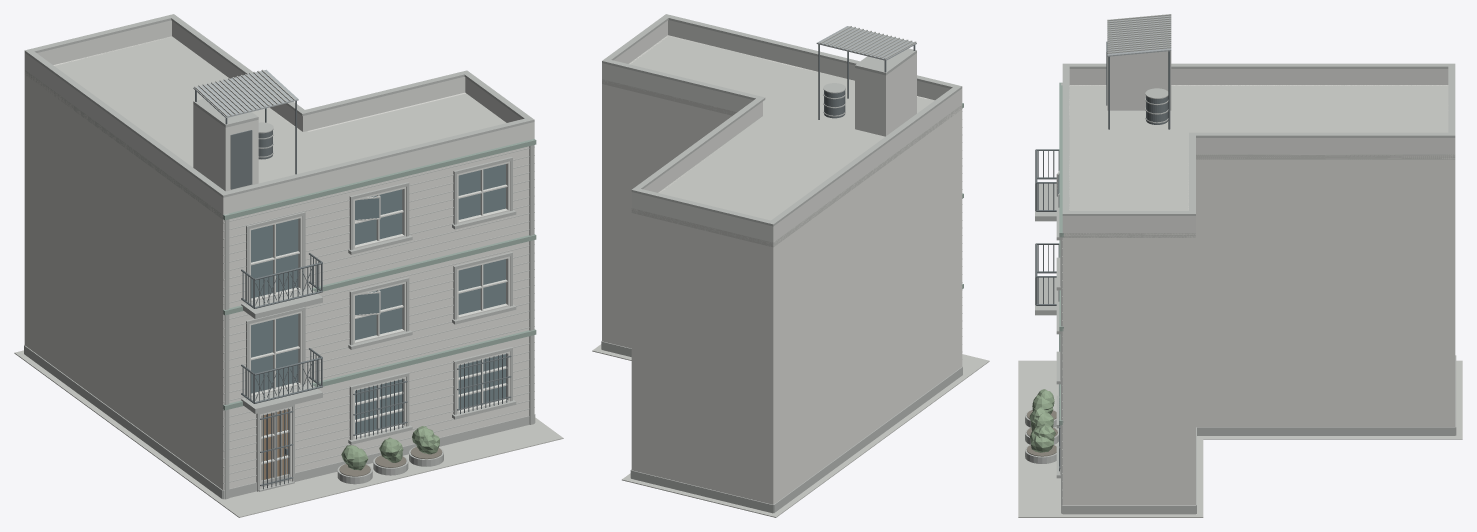
The model's file is 04_concave.glb.
3 renders of one model, left to right at view 1: azimuth 30°, elevation 25°; view 2: azimuth 150°, elevation 25°; view 3: azimuth 270°, elevation 25°, orthographic. The views are drawn at different scales.
Visible parts, largest first — view 1: wall_12, wall_13, roof_slab_11, parapet_0, window_panel_4, cladding_joint_2, lot_paving_11, parapet_cap_2, balcony_window_panel_4, floor_band_1, opening_surround_2, plinth_2 (+24 smaller); view 2: wall_12, wall_17, roof_slab_11, parapet_0, wall_15, parapet_cap_2, rooftop_room_0, plinth_2, lot_paving_11, wall_16, wall_14, corrugation_2 (+3 smaller); view 3: wall_16, wall_14, roof_slab_11, parapet_0, lot_paving_11, parapet_cap_2, plinth_2, rooftop_room_0, corrugation_2, wall_13, balcony_slab_2, canopy_sheet_8 (+9 smaller).
Boxes of the visible parts, x1,y1,x2,y2 form: wall_12: [24, 70, 229, 490]; wall_13: [219, 145, 534, 488]; roof_slab_11: [24, 36, 506, 219]; parapet_0: [24, 20, 534, 214]; window_panel_4: [355, 164, 505, 433]; cladding_joint_2: [223, 146, 534, 483]; lot_paving_11: [14, 350, 563, 517]; parapet_cap_2: [24, 14, 534, 197]; balcony_window_panel_4: [251, 219, 298, 393]; floor_band_1: [223, 139, 536, 410]; opening_surround_2: [246, 157, 512, 491]; plinth_2: [24, 345, 535, 499]; wall_12: [767, 105, 962, 504]; wall_17: [631, 210, 775, 504]; roof_slab_11: [602, 35, 962, 247]; parapet_0: [602, 20, 962, 242]; wall_15: [602, 81, 735, 348]; parapet_cap_2: [602, 14, 962, 226]; rooftop_room_0: [855, 53, 916, 136]; plinth_2: [601, 341, 962, 513]; lot_paving_11: [592, 344, 989, 517]; wall_16: [631, 147, 721, 471]; wall_14: [602, 36, 667, 342]; corrugation_2: [820, 26, 916, 59]; wall_16: [1196, 154, 1455, 427]; wall_14: [1062, 233, 1195, 505]; roof_slab_11: [1062, 85, 1455, 237]; parapet_0: [1062, 69, 1455, 232]; lot_paving_11: [1018, 360, 1462, 517]; parapet_cap_2: [1062, 63, 1455, 215]; plinth_2: [1061, 355, 1456, 514]; rooftop_room_0: [1107, 51, 1171, 110]; corrugation_2: [1107, 14, 1171, 53]; wall_13: [1062, 86, 1069, 505]; balcony_slab_2: [1035, 183, 1056, 315]; canopy_sheet_8: [1107, 15, 1171, 56].
Size of the model in its own units: 10 by 10.82 by 12.
